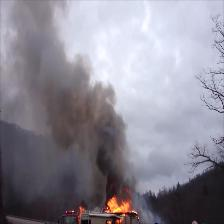fire: (104, 196, 127, 211)
smoke: (59, 57, 97, 145), (26, 6, 54, 99), (101, 114, 126, 194)
